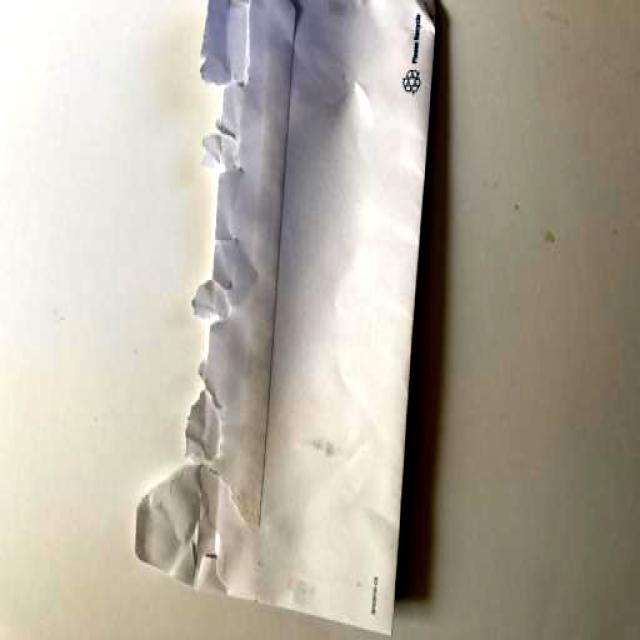Paper: (203, 0, 403, 613)
